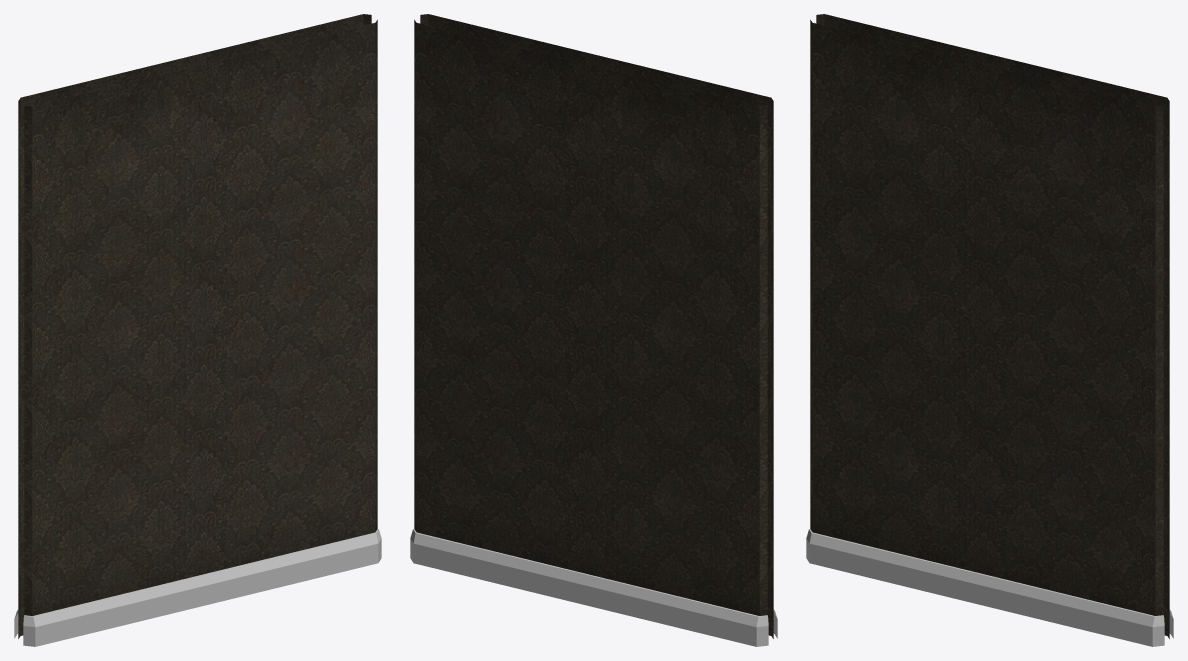
Rendered from wall_1_2_half.fbx.
3 views of the same model, side by side, from view 1: azimuth 30°, elevation 25°; view 2: azimuth 150°, elevation 25°; view 3: azimuth 330°, elevation 25° (orthographic).
Parts seen in each view (by area): view 1: wall_1_2_half; view 2: wall_1_2_half; view 3: wall_1_2_half.
Part boxes in pixels (x1,y1,x2,y2): wall_1_2_half: (14, 14, 381, 646); wall_1_2_half: (410, 14, 777, 646); wall_1_2_half: (806, 14, 1173, 646).
Size of the model in its own units: 2.09 by 0.18 by 3.
